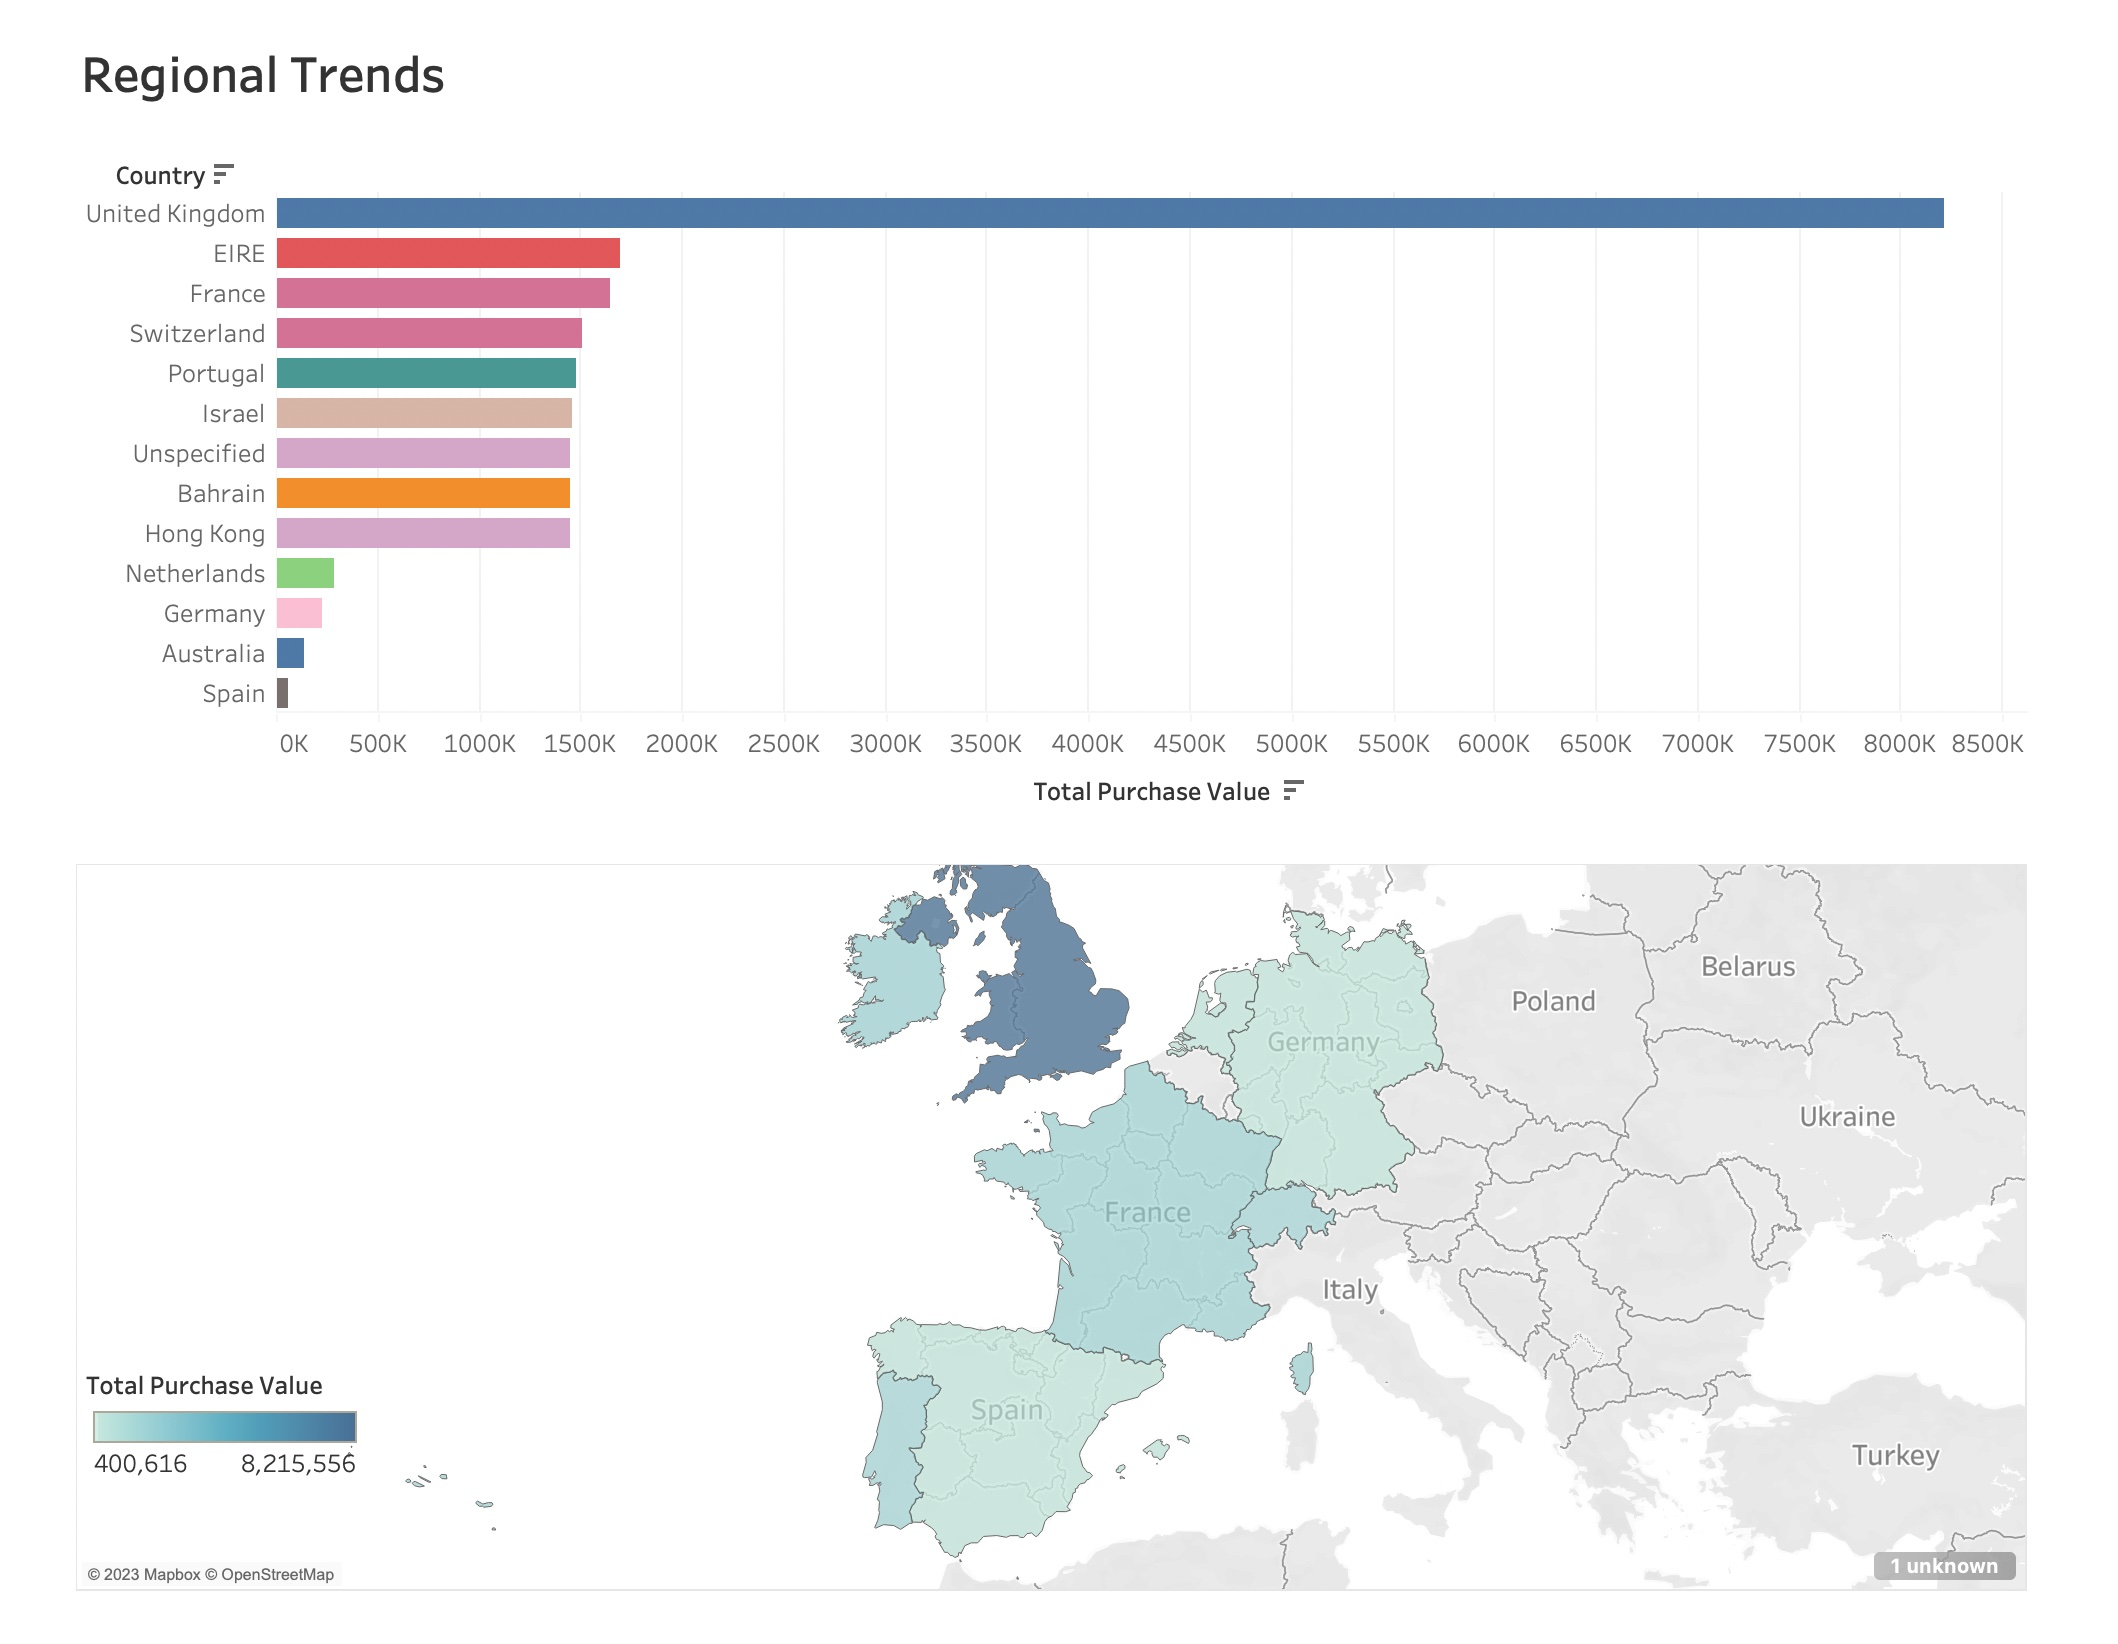

The dashboard page shown, as its layout file describes it:
{"tool":"tableau","page":{"name":"Dashboard 2","canvas":[1000,800],"ordinal":1},"visuals":[{"type":"title","box":[8,8,984,41]},{"type":"worksheet","title":"Sheet 4","mark":"Automatic","rows":["Country"],"cols":["TotalPurchaseValue"],"box":[8,49,984,371.5]},{"type":"worksheet","title":"Sheet 5","mark":"Automatic","box":[8,420.5,984,371.5]},{"type":"legend","title":"Sheet 5","param":"[federated.0i5ynd00bf3w5w1aq6y280vr25mc].[sum:TotalPurchaseValue:qk]","box":[15,451,140,76]}]}

Visuals, with their boxes on the page's 1000x800 design canvas (x1, y1, x2, y2). These are canvas units, not pixel positions in the 2118x1644 screenshot, which may show the page scaled, cropped or inside an application window:
title: x1=8 y1=8 x2=992 y2=49
"Sheet 4" worksheet: x1=8 y1=49 x2=992 y2=420
"Sheet 5" worksheet: x1=8 y1=420 x2=992 y2=792
"Sheet 5" legend: x1=15 y1=451 x2=155 y2=527
